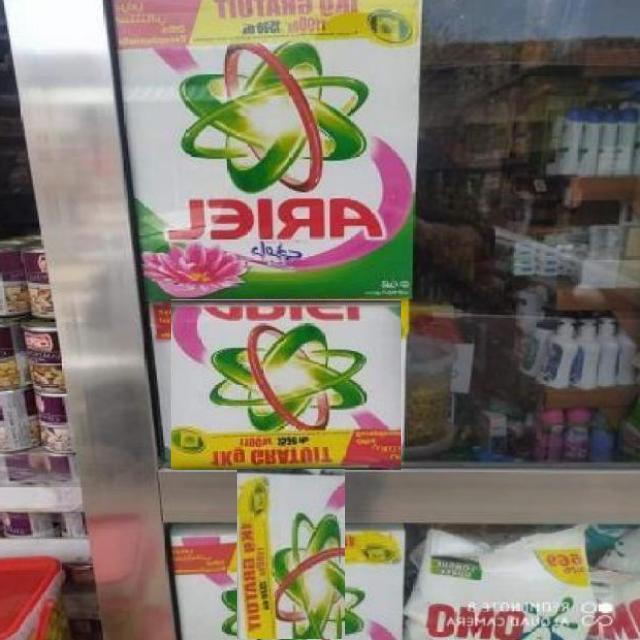Detergent: (132, 0, 428, 298), (171, 298, 401, 470), (237, 469, 345, 640)
